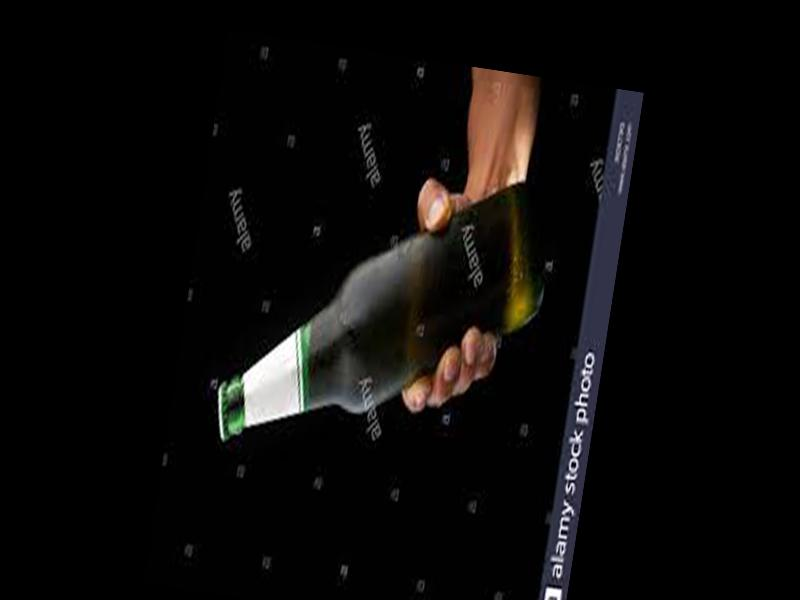Beer: (208, 141, 562, 489)
